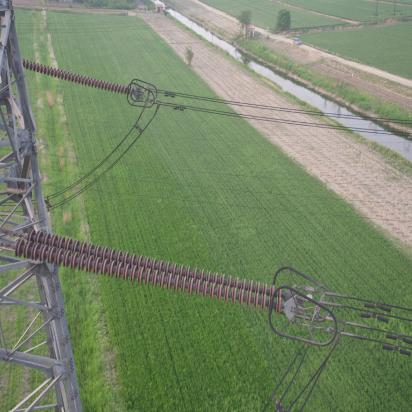insulator: (4, 224, 288, 317), (22, 57, 137, 98)
